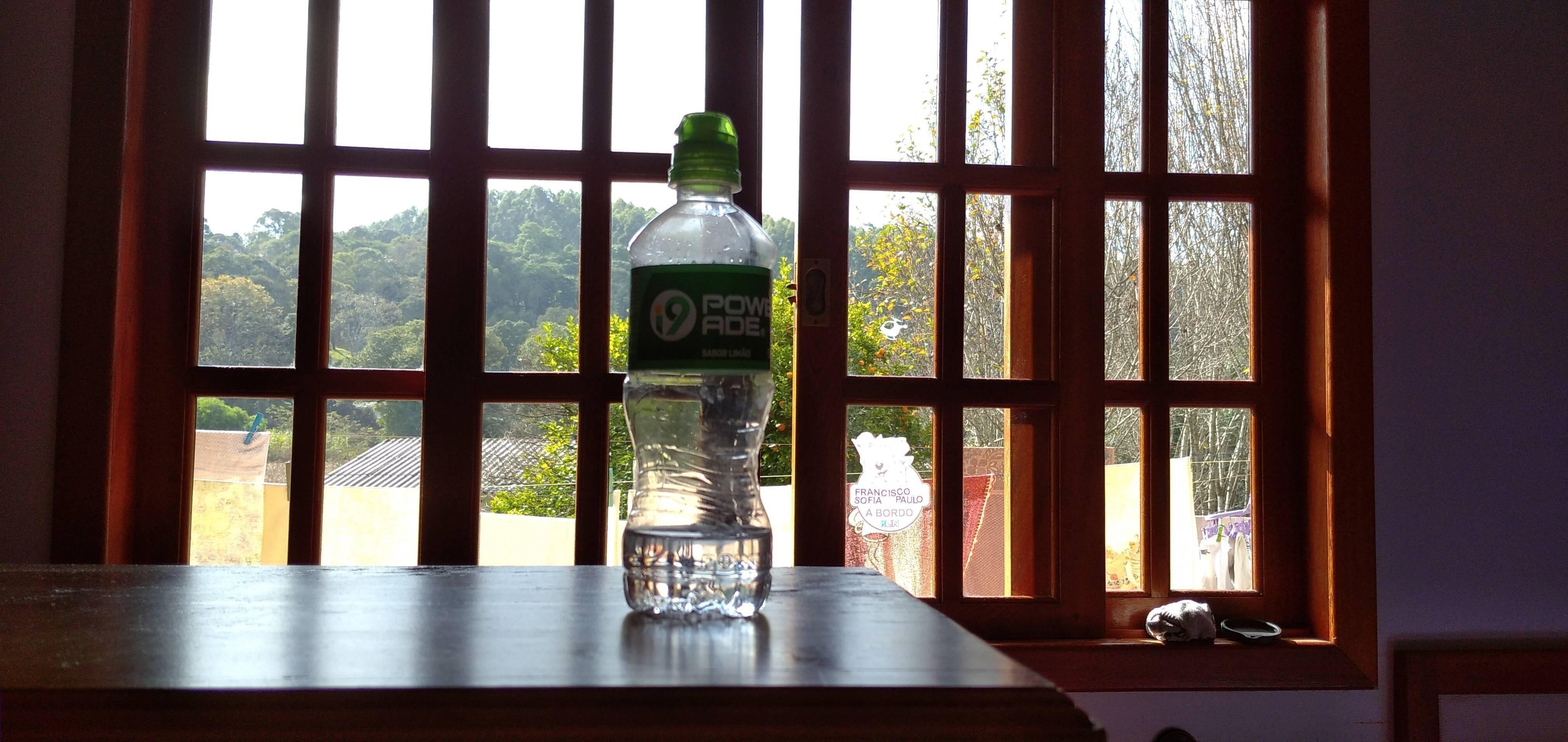bottle-plastic: (626, 110, 781, 624)
